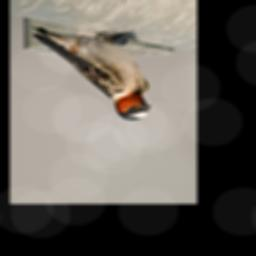Swallow: (30, 26, 153, 123)
